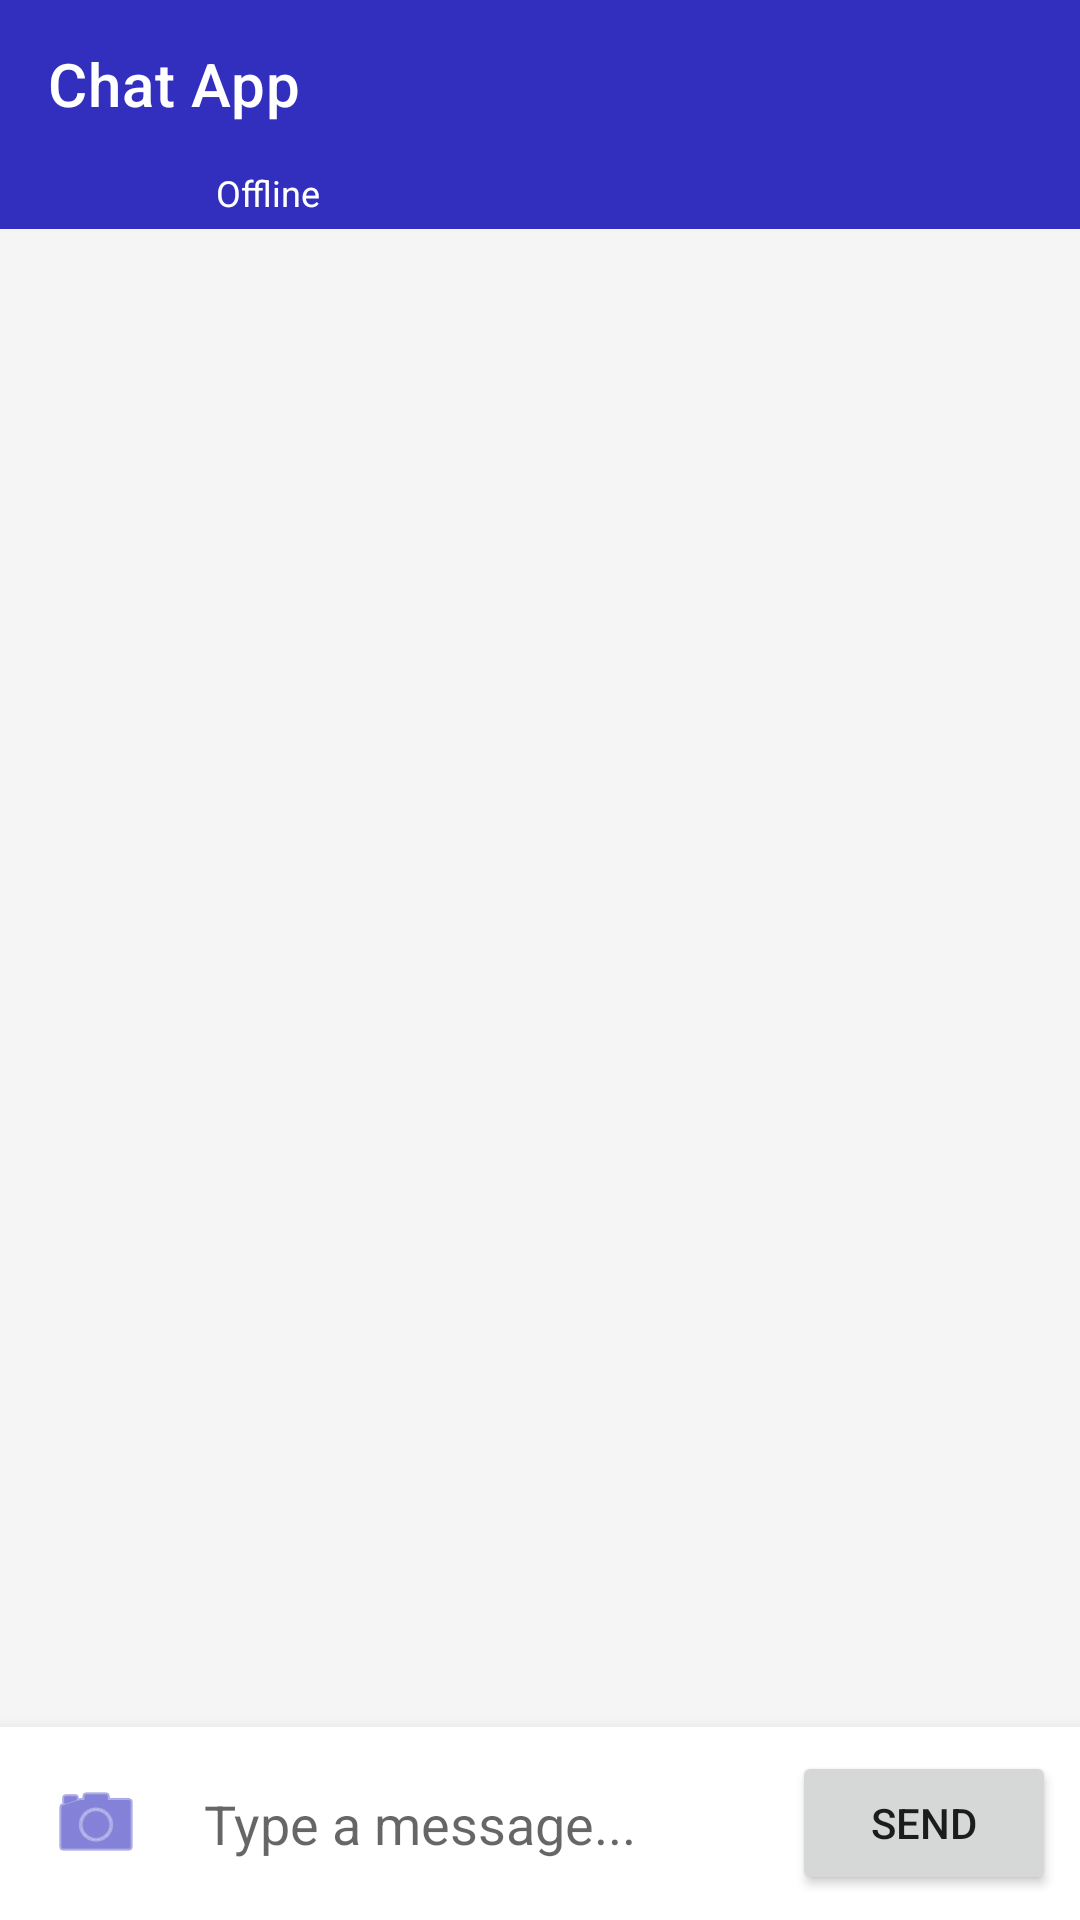

Named icons in this screenshot (1080x1920) and their bounding boxes, (x1, y1, x2, y2):
Attach Image: (59, 1792, 133, 1851)
